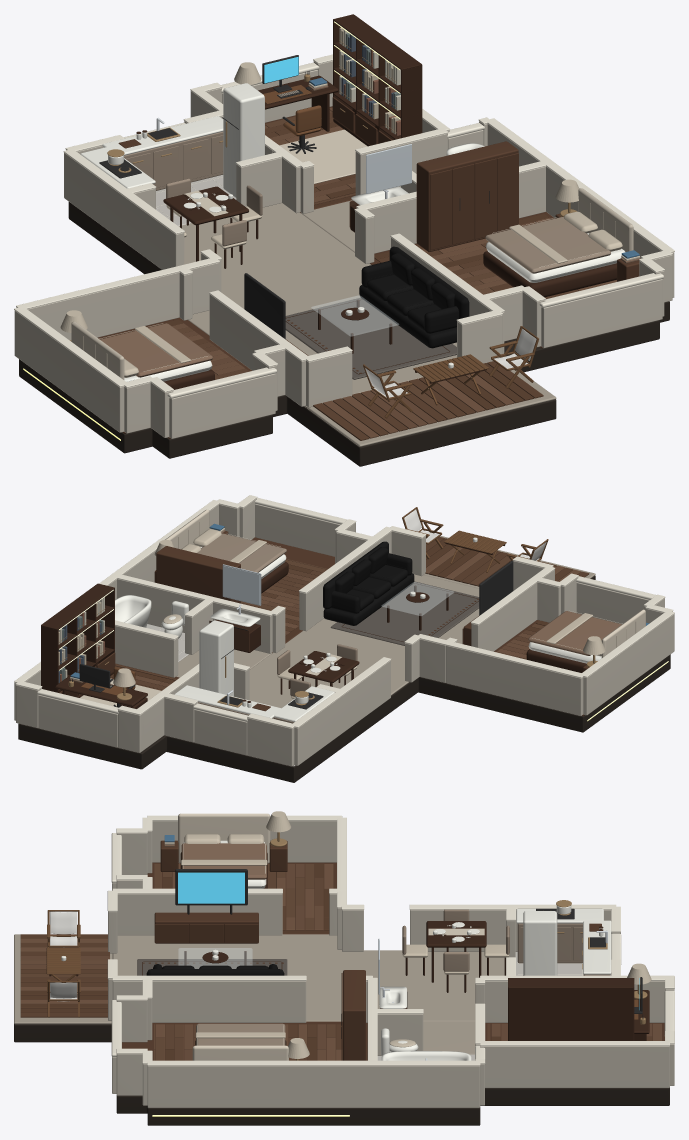
Rendered from home.glb.
3 renders of one model, top to bottom at view 1: azimuth 30°, elevation 25°; view 2: azimuth 150°, elevation 25°; view 3: azimuth 270°, elevation 25°, orthographic. The views are drawn at different scales.
Visible parts, largest first — view 1: 03_Cutaway_Walls__Plaster | warm ivory, 02_Floors__Stone | sand, 01_Foundation__Foundation | ink blue, 03_Cutaway_Walls__Wall cap | pale limestone, 05_Windows_Doors__Plaster | warm ivory, 14_Bedroom_B__Oak | honey, 13_Study__Walnut, 10_Living__Leather | pure black, 10_Living__Wool | warm graphite, 12_Kitchen__Ceramic | ivory, 14_Bedroom_B__Upholstery | deep teal, 12_Kitchen__Upholstery | deep teal (+37 smaller); view 2: 03_Cutaway_Walls__Plaster | warm ivory, 01_Foundation__Foundation | ink blue, 03_Cutaway_Walls__Wall cap | pale limestone, 05_Windows_Doors__Plaster | warm ivory, 02_Floors__Stone | sand, 13_Study__Walnut, 10_Living__Leather | pure black, 10_Living__Wool | warm graphite, 12_Kitchen__Ceramic | ivory, 14_Bedroom_B__Oak | honey, 05_Windows_Doors__Wall cap | pale limestone, 16_Bathroom__Ceramic | ivory (+26 smaller); view 3: 03_Cutaway_Walls__Plaster | warm ivory, 02_Floors__Stone | sand, 03_Cutaway_Walls__Wall cap | pale limestone, 01_Foundation__Foundation | ink blue, 13_Study__Walnut, 12_Kitchen__Ceramic | ivory, 10_Living__Oak | honey, 02_Floors__Oak | honey, 15_Bedroom_C__Boucle | warm white, 14_Bedroom_B__Oak | honey, 17_Balcony__Oak board 01, Screen_Living__Screen | soft blue (+29 smaller).
Boxes of the visible parts, x1,y1,x2,y2 form: 03_Cutaway_Walls__Plaster | warm ivory: [14, 60, 674, 437]; 02_Floors__Stone | sand: [179, 200, 556, 446]; 01_Foundation__Foundation | ink blue: [19, 202, 669, 466]; 03_Cutaway_Walls__Wall cap | pale limestone: [14, 54, 674, 392]; 05_Windows_Doors__Plaster | warm ivory: [169, 69, 662, 438]; 14_Bedroom_B__Oak | honey: [416, 141, 639, 281]; 13_Study__Walnut: [258, 14, 422, 146]; 10_Living__Leather | pure black: [359, 246, 469, 348]; 10_Living__Wool | warm graphite: [285, 297, 456, 379]; 12_Kitchen__Ceramic | ivory: [80, 83, 264, 198]; 14_Bedroom_B__Upholstery | deep teal: [485, 217, 610, 273]; 12_Kitchen__Upholstery | deep teal: [124, 131, 223, 190]; 03_Cutaway_Walls__Plaster | warm ivory: [14, 498, 674, 766]; 01_Foundation__Foundation | ink blue: [18, 576, 670, 782]; 03_Cutaway_Walls__Wall cap | pale limestone: [14, 495, 674, 728]; 05_Windows_Doors__Plaster | warm ivory: [38, 504, 649, 755]; 02_Floors__Stone | sand: [176, 535, 595, 708]; 13_Study__Walnut: [41, 583, 147, 708]; 10_Living__Leather | pure black: [323, 541, 414, 625]; 10_Living__Wool | warm graphite: [330, 581, 479, 645]; 12_Kitchen__Ceramic | ivory: [174, 620, 334, 721]; 14_Bedroom_B__Oak | honey: [154, 531, 240, 603]; 05_Windows_Doors__Wall cap | pale limestone: [37, 497, 656, 721]; 16_Bathroom__Ceramic | ivory: [115, 595, 260, 638]; 03_Cutaway_Walls__Plaster | warm ivory: [108, 820, 674, 1107]; 02_Floors__Stone | sand: [14, 934, 504, 1054]; 03_Cutaway_Walls__Wall cap | pale limestone: [107, 815, 674, 1065]; 01_Foundation__Foundation | ink blue: [14, 1024, 669, 1125]; 13_Study__Walnut: [508, 978, 649, 1040]; 12_Kitchen__Ceramic | ivory: [516, 905, 611, 975]; 10_Living__Oak | honey: [143, 912, 283, 963]; 02_Floors__Oak | honey: [122, 862, 664, 1060]; 15_Bedroom_C__Boucle | warm white: [178, 813, 270, 873]; 14_Bedroom_B__Oak | honey: [341, 970, 365, 1060]; 17_Balcony__Oak board 01: [20, 934, 109, 1017]; Screen_Living__Screen | soft blue: [178, 872, 244, 903].
Size of the model in its own units: 10.37 by 2.25 by 11.62.
